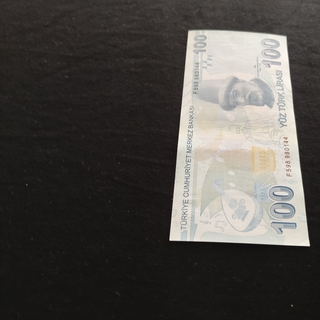100TLBack: (169, 29, 310, 247)
